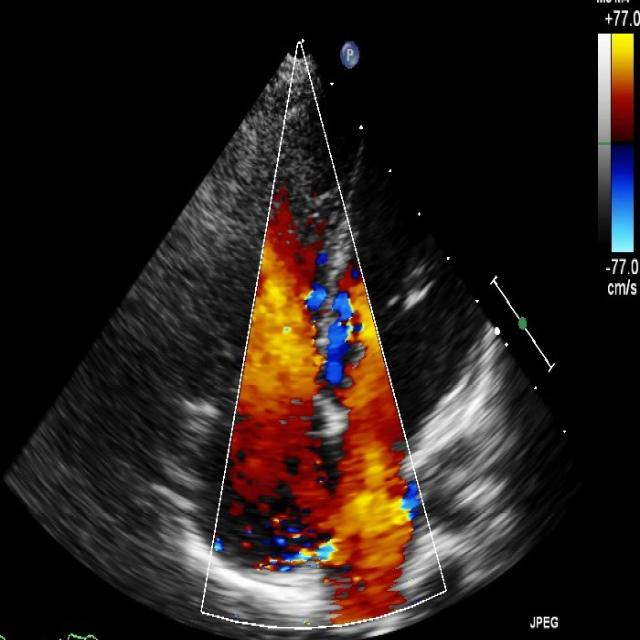ASDType2: (224, 412, 424, 624)
